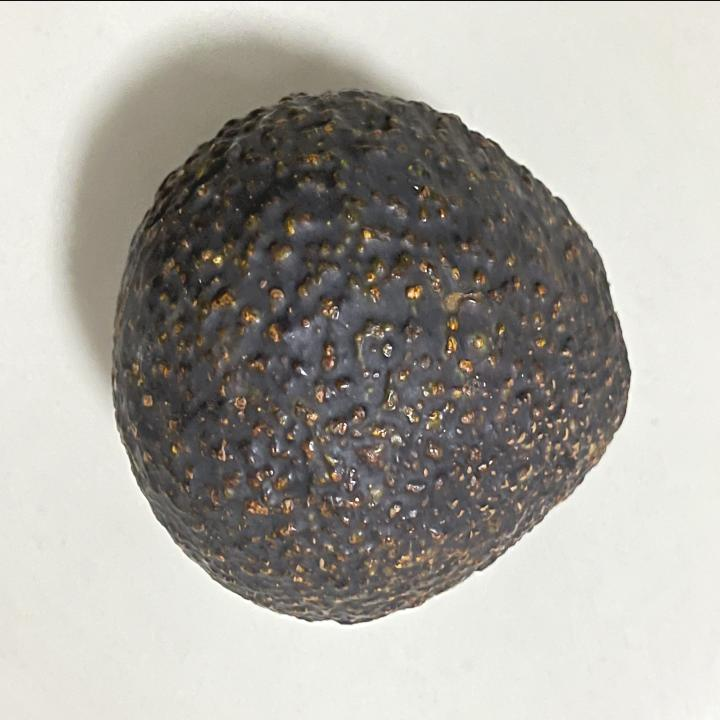Level2: (105, 81, 636, 629)
